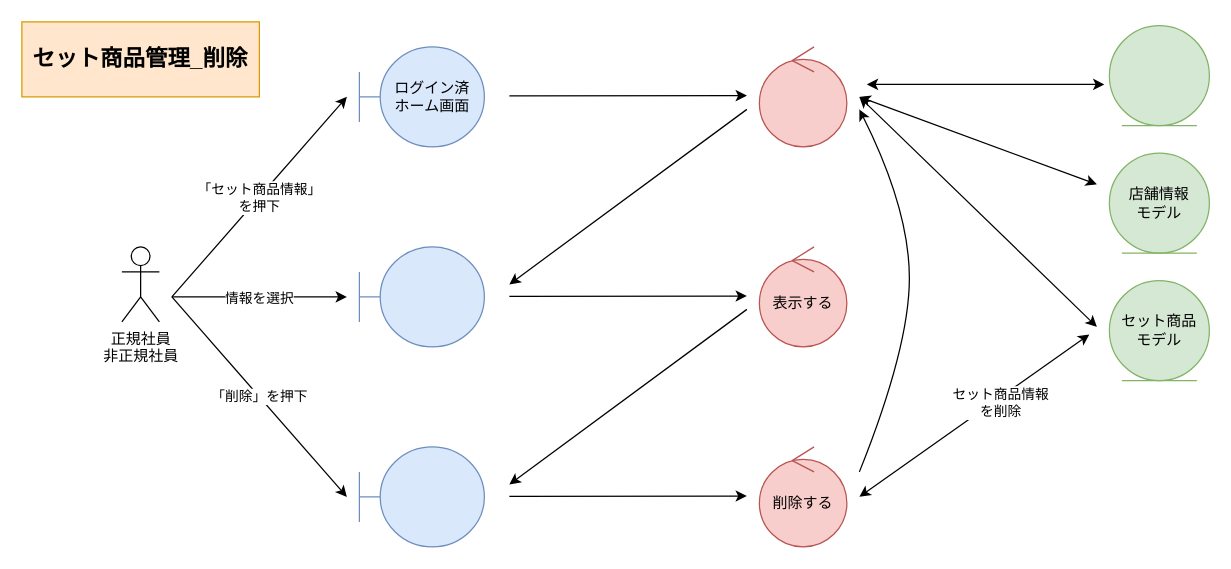
Some shapes in this 1231 by 569 pixel diagram are drawn without their labels. The box of each missing label's shape, as (x1, y1, x2, y2) in pixels:
セット商品 一覧画面: (358, 246, 484, 347)
セット商品情報を 取得する: (758, 46, 847, 147)
商品情報 モデル: (1108, 24, 1209, 126)
詳細画面: (358, 446, 484, 547)
